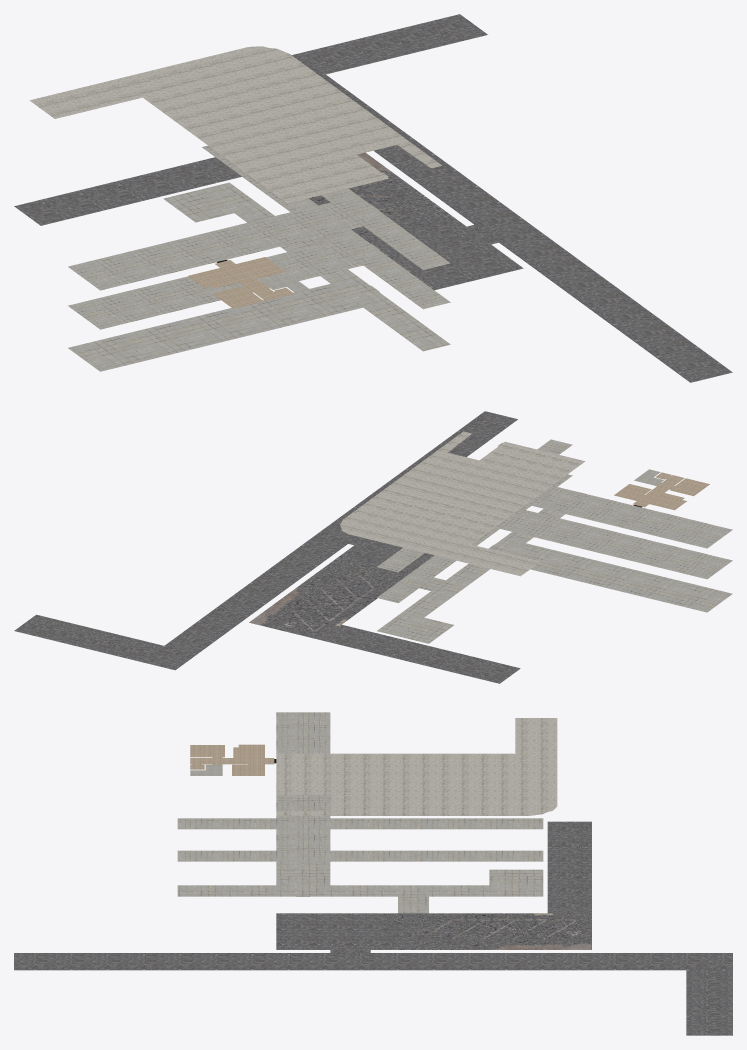
Rendered from PISOS.fbx.
The picture shows the model from 3 angles, top to bottom: view 1: azimuth 30°, elevation 25°; view 2: azimuth 150°, elevation 25°; view 3: azimuth 270°, elevation 25°; orthographic projection. The views are drawn at different scales.
Visible parts, largest first — view 1: PAR.015, PAR.016, PAR.011, PAR.013, PAR.014, PAR.012, PISO CASA; view 2: PAR.016, PAR.015, PAR.011, PAR.014, PAR.012, PAR.013, PISO CASA; view 3: PAR.015, PAR.016, PAR.013, PAR.012, PAR.011, PAR.014, PISO CASA.
Boxes of the visible parts, x1,y1,x2,y2 form: PAR.015: [14, 14, 732, 382]; PAR.016: [29, 46, 441, 203]; PAR.011: [68, 182, 450, 371]; PAR.013: [68, 188, 450, 290]; PAR.014: [68, 145, 450, 329]; PAR.012: [309, 152, 454, 239]; PISO CASA: [188, 257, 294, 308]; PAR.016: [340, 431, 585, 576]; PAR.015: [14, 411, 520, 683]; PAR.011: [377, 509, 732, 643]; PAR.014: [377, 474, 732, 603]; PAR.012: [249, 552, 414, 639]; PAR.013: [377, 439, 732, 572]; PISO CASA: [614, 472, 709, 510]; PAR.015: [14, 821, 732, 1035]; PAR.016: [276, 718, 557, 815]; PAR.013: [177, 712, 543, 829]; PAR.012: [390, 913, 591, 949]; PAR.011: [177, 861, 543, 913]; PAR.014: [177, 829, 543, 861]; PISO CASA: [190, 744, 274, 775].
Bounding box in the file's own units: 7842 × 1444 × 9297.
Materials: 6 (5 with a texture image).
